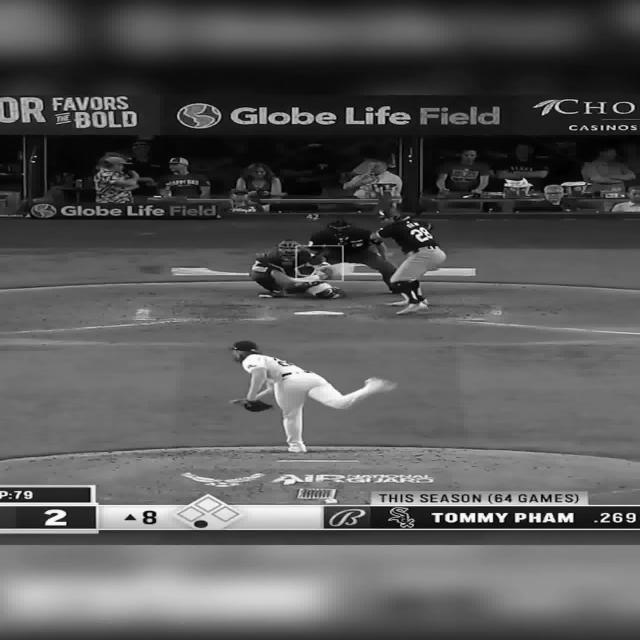baseball_glove: (229, 398, 273, 412), (288, 264, 317, 276)
shoe: (363, 377, 397, 392), (395, 302, 429, 315), (387, 298, 420, 306), (286, 442, 306, 453), (257, 290, 279, 298)
